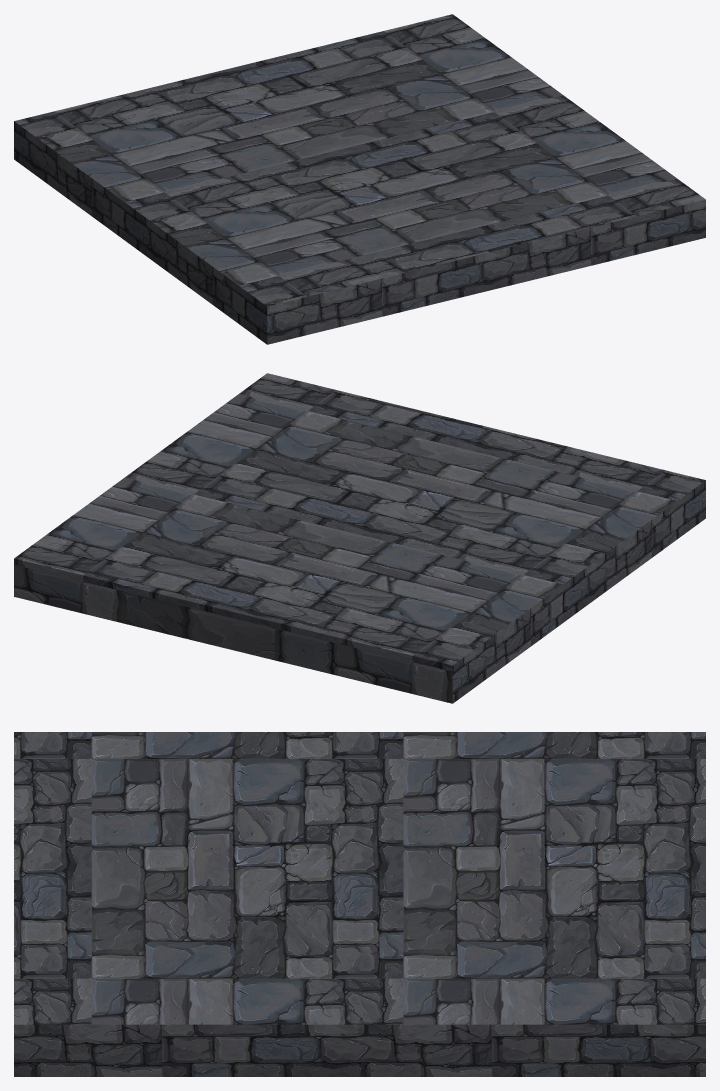
The model's file is Plataformat1.obj.
3 views of the same model, one above another, from view 1: azimuth 30°, elevation 25°; view 2: azimuth 150°, elevation 25°; view 3: azimuth 270°, elevation 25° (orthographic). The views are drawn at different scales.
Parts seen in each view (by area): view 1: Plane.002; view 2: Plane.002; view 3: Plane.002.
Part boxes in pixels (<box>): Plane.002: <box>14,14,705,344</box>; Plane.002: <box>14,373,705,703</box>; Plane.002: <box>14,732,705,1076</box>.
Size of the model in its own units: 48 by 4 by 48.
1 material, 1 textured.
